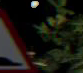Speed Breaker ahead: (0, 5, 29, 72)
